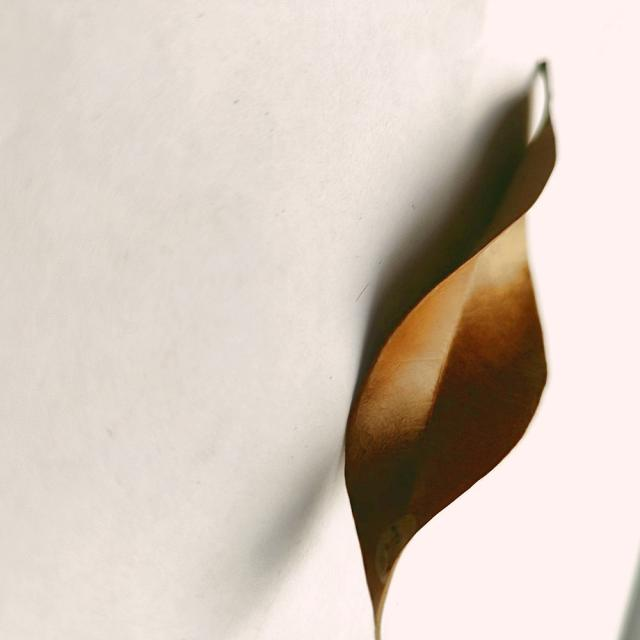Dry_Leaf-Lychee: (344, 217, 550, 639)
